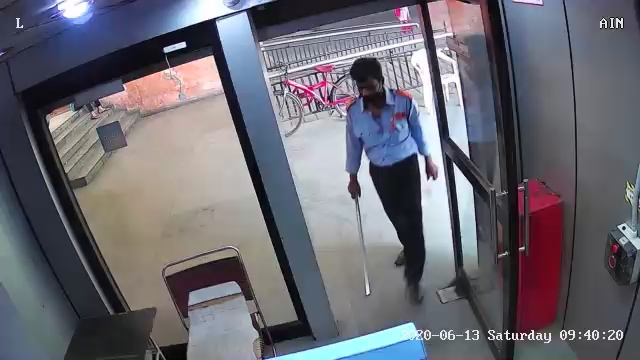open: (196, 8, 535, 360)
